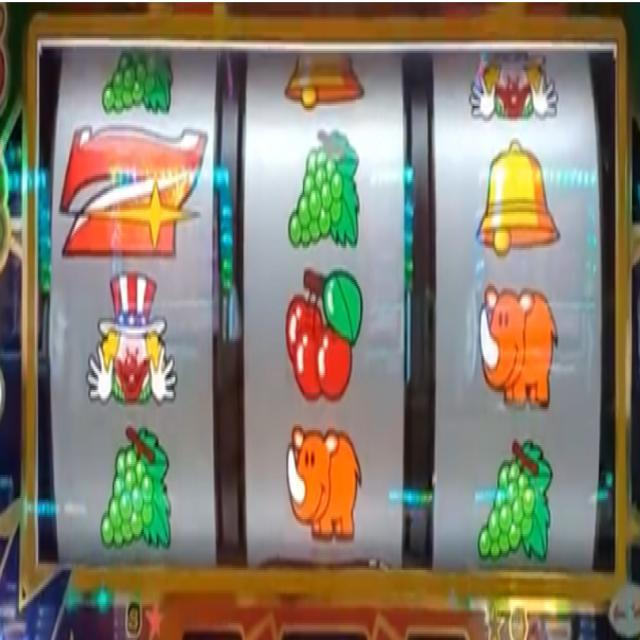bell: (476, 137, 560, 256), (284, 34, 365, 110)
cherry: (286, 265, 363, 402)
clown: (86, 272, 178, 407), (468, 45, 560, 121)
display: (35, 32, 619, 575)
elephant: (478, 280, 560, 410), (284, 421, 362, 546)
grape: (100, 421, 173, 550), (478, 438, 551, 560), (288, 125, 359, 250), (102, 41, 174, 117)
z: (59, 122, 208, 261)
